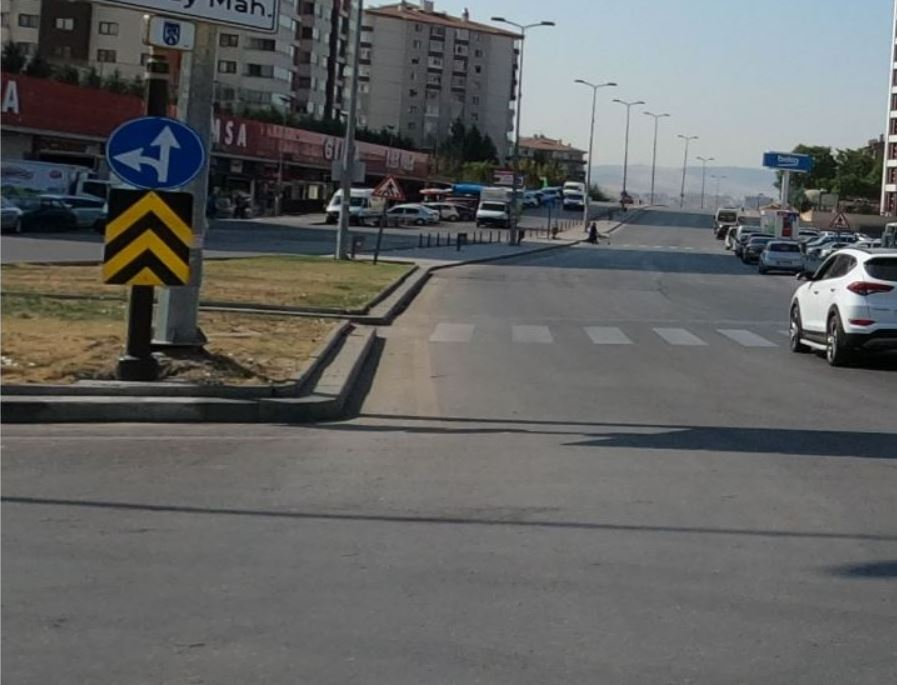ileri ve Sola Mecburi Don: (112, 107, 206, 197)
